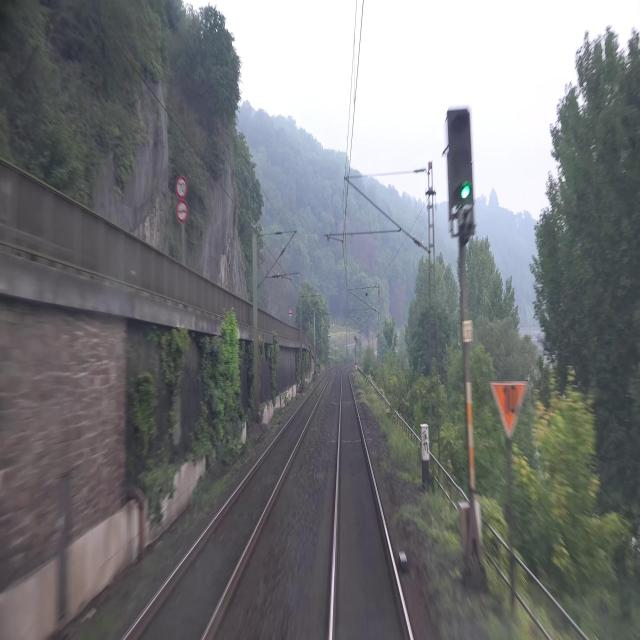rail-track: (127, 373, 328, 639), (333, 370, 409, 639)
